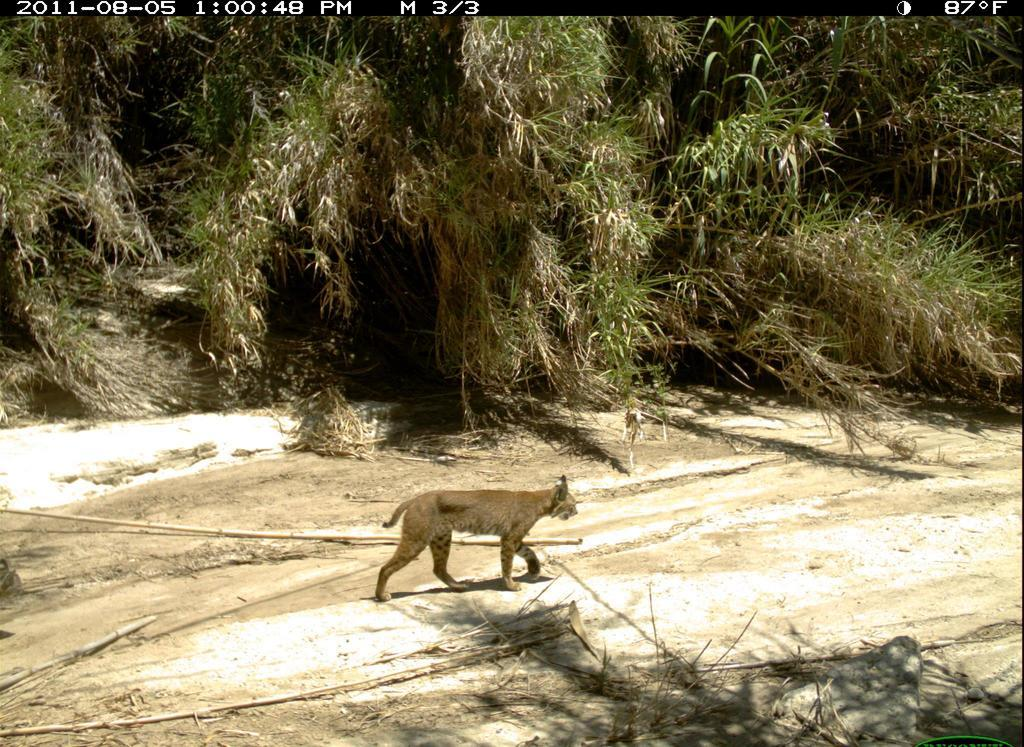bobcat: (374, 472, 582, 603)
